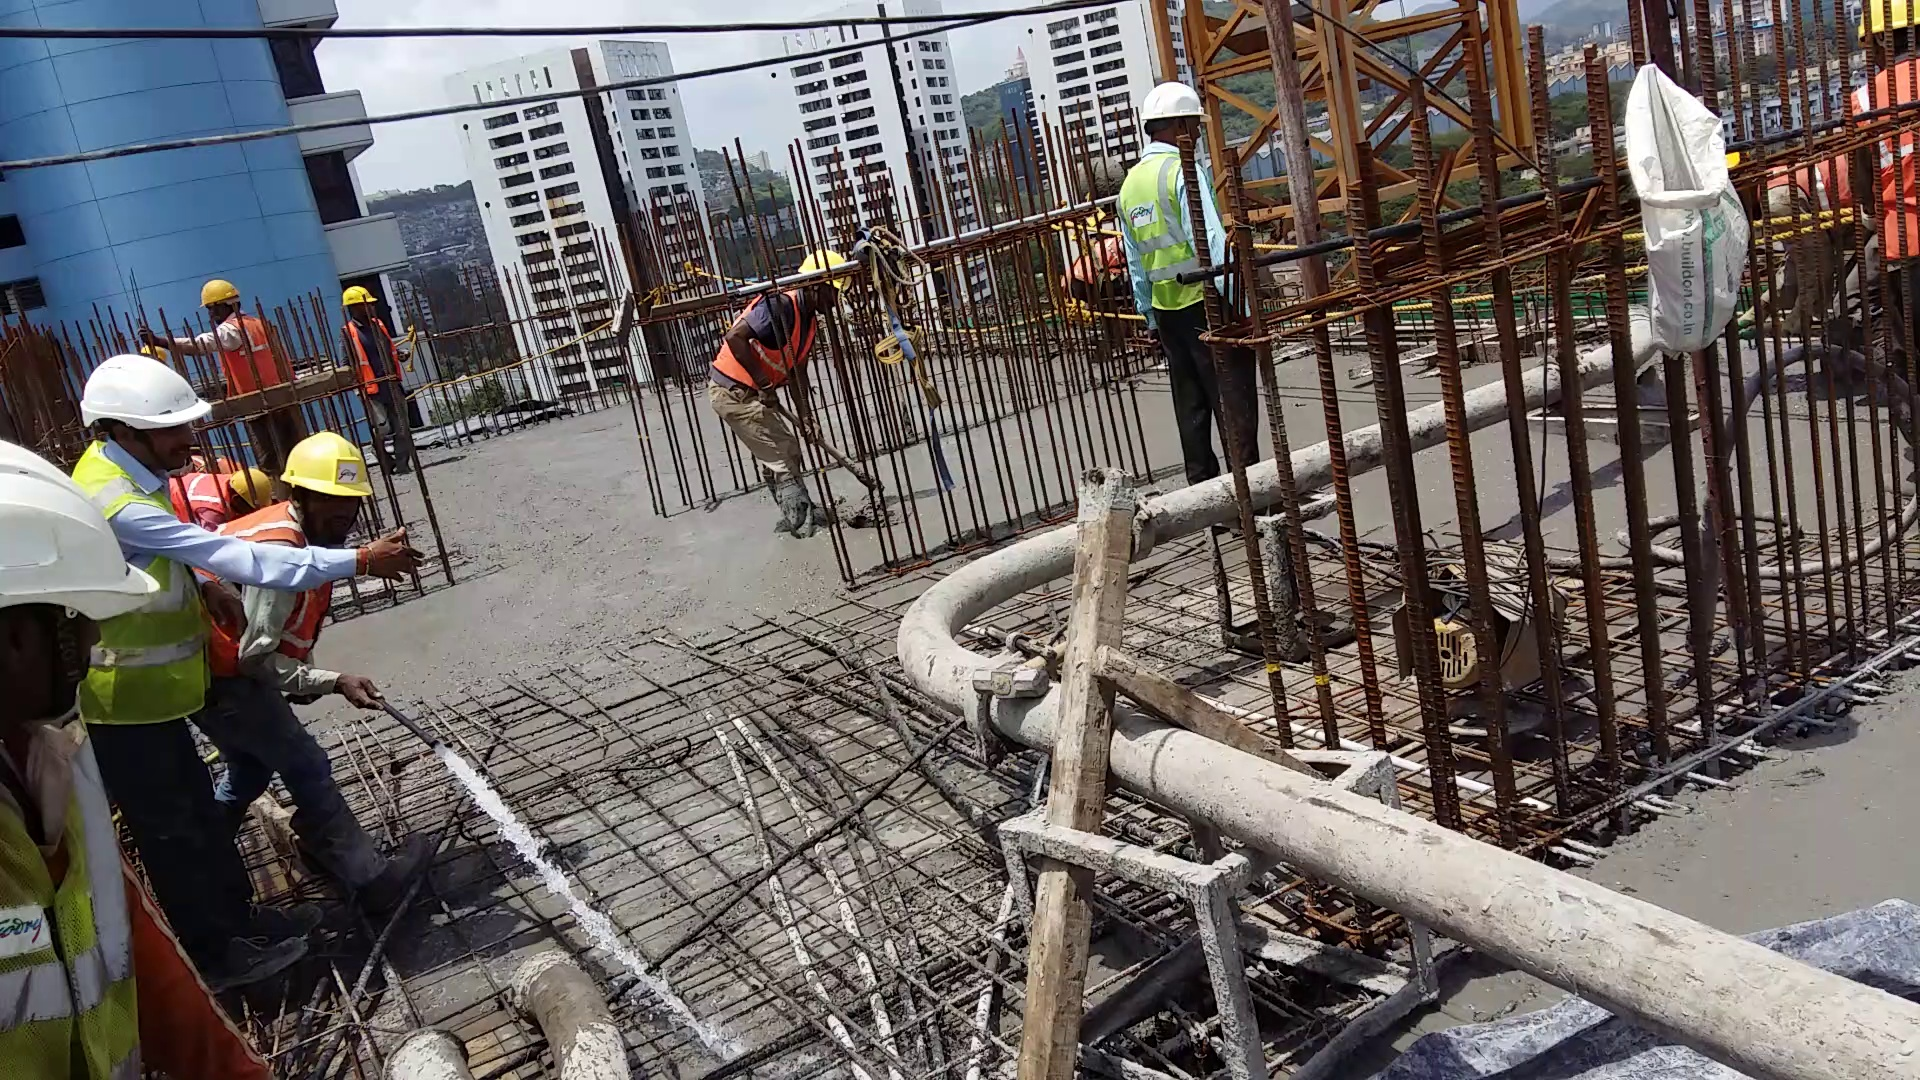SAFE: (1, 448, 123, 1077), (119, 335, 198, 700), (1126, 75, 1209, 313)
